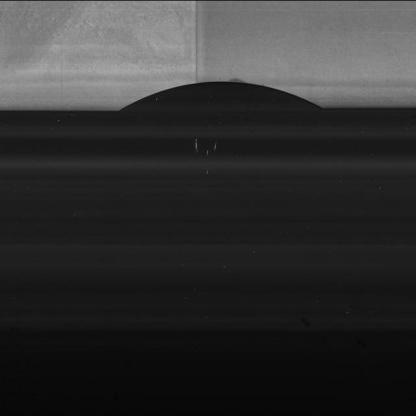welding_line: (180, 0, 206, 85)
